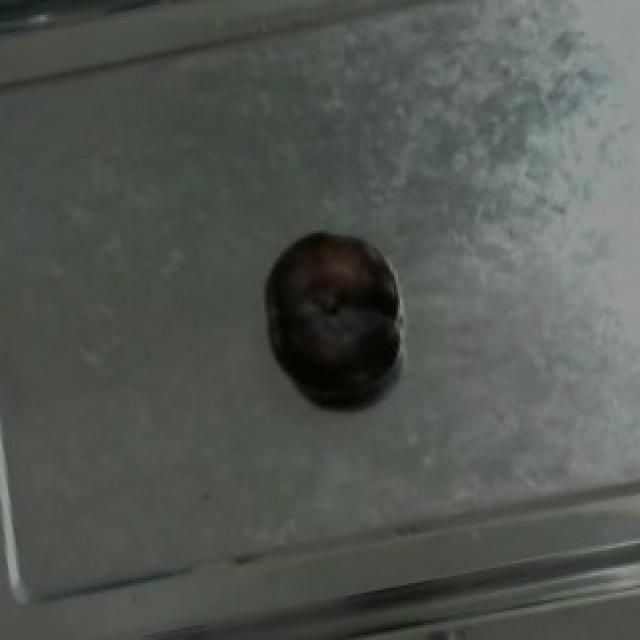Fruit: (258, 216, 406, 404)
